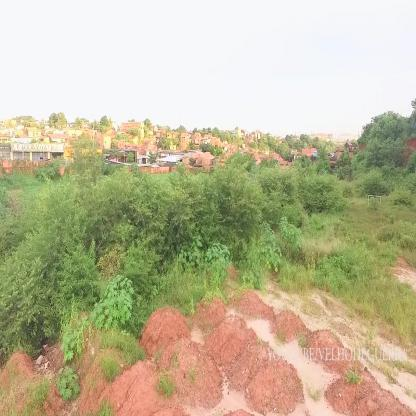agua: (250, 318, 272, 341), (220, 392, 243, 413)
